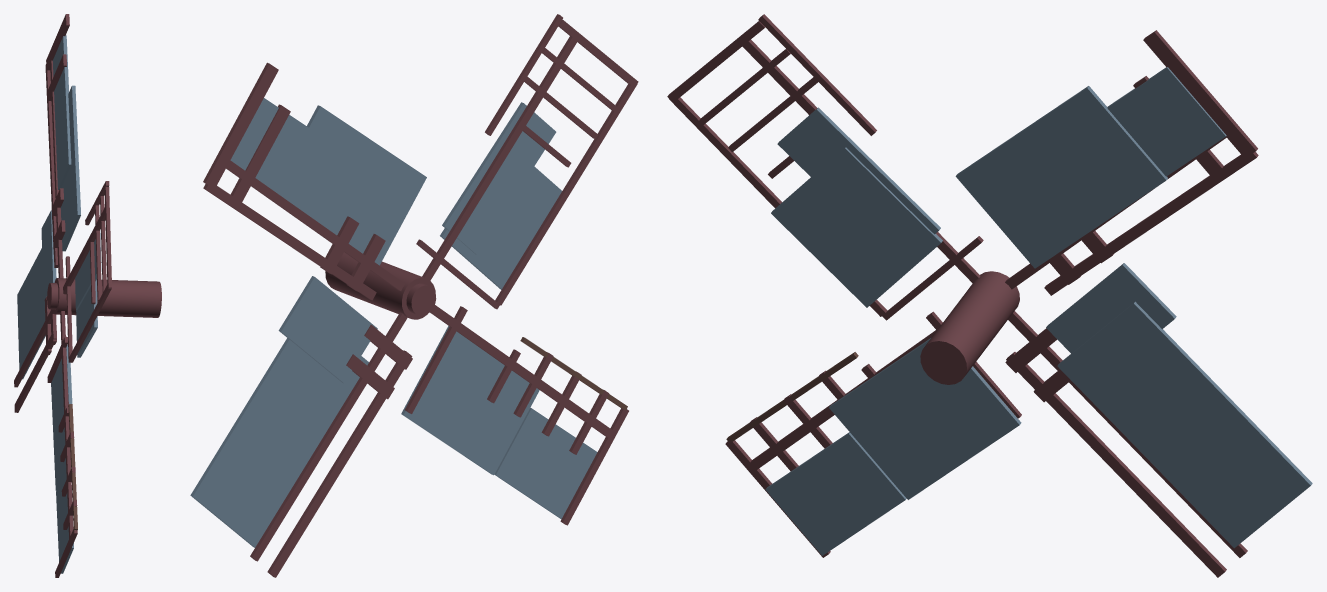
The model's file is windmillcore.fbx.
3 renders of one model, left to right at view 1: azimuth 30°, elevation 25°; view 2: azimuth 150°, elevation 25°; view 3: azimuth 270°, elevation 25°, orthographic. The views are drawn at different scales.
Parts seen in each view (by area): view 1: windmillcore_Merged; view 2: windmillcore_Merged; view 3: windmillcore_Merged.
Boxes of the visible parts, x1,y1,x2,y2 form: windmillcore_Merged: (14, 14, 161, 577); windmillcore_Merged: (190, 14, 638, 577); windmillcore_Merged: (667, 14, 1312, 577).
Size of the model in its own units: 564 by 1419 by 1352.
